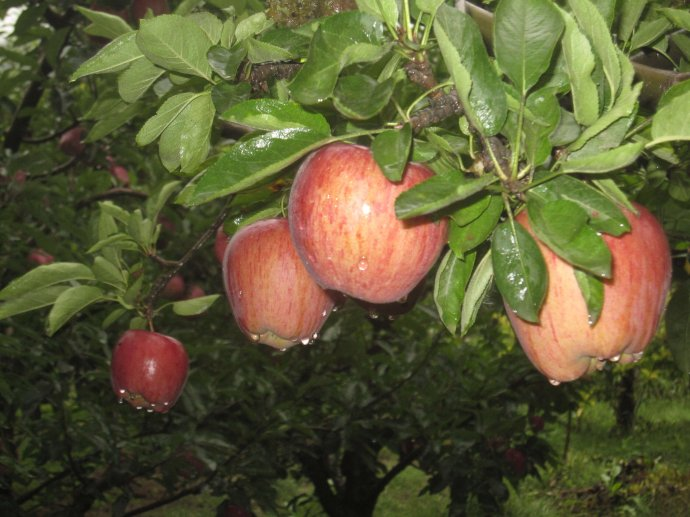apple: (292, 138, 450, 304), (110, 325, 188, 413)
obscured(1)_apple: (220, 220, 346, 347)
obscured(2)_apple: (497, 194, 671, 381)
